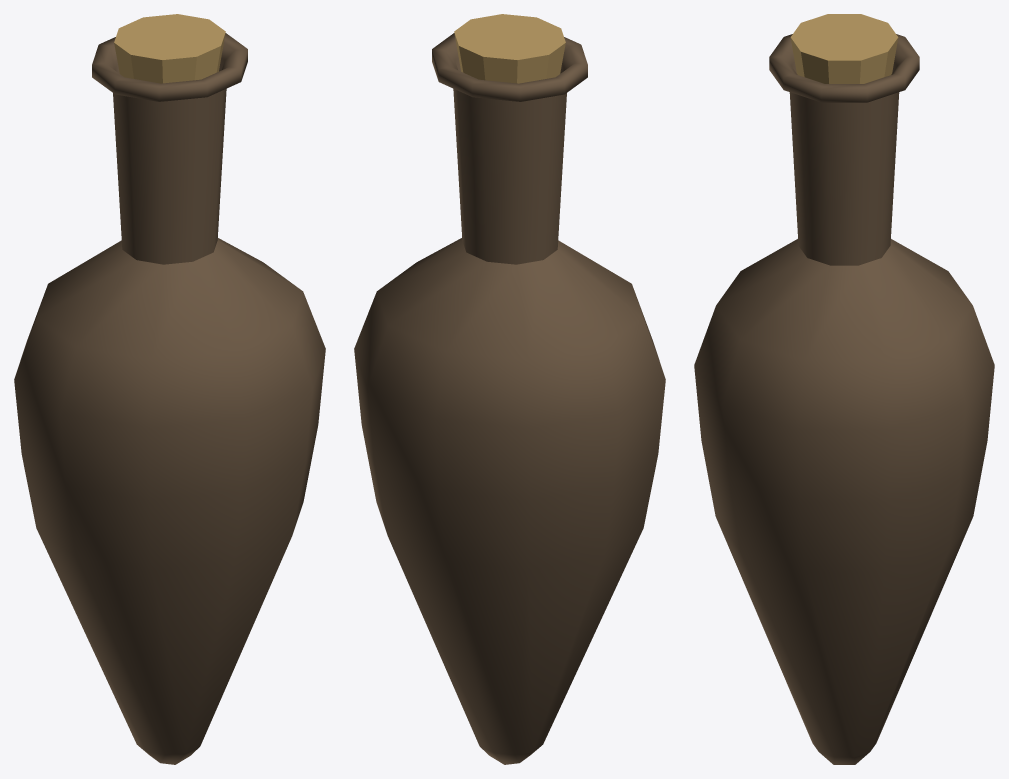
File: Amphora.glb
The picture shows the model from 3 angles, left to right: view 1: azimuth 30°, elevation 25°; view 2: azimuth 150°, elevation 25°; view 3: azimuth 270°, elevation 25°; orthographic projection.
Visible parts, largest first — view 1: Amphora.001; view 2: Amphora.001; view 3: Amphora.001.
Part boxes in pixels (x1,y1,x2,y2): Amphora.001: (14,14,325,764); Amphora.001: (354,14,665,764); Amphora.001: (694,14,994,764).
Bounding box in the file's own units: 0.4567 × 1.19 × 0.4469.
1 material, 1 textured.
